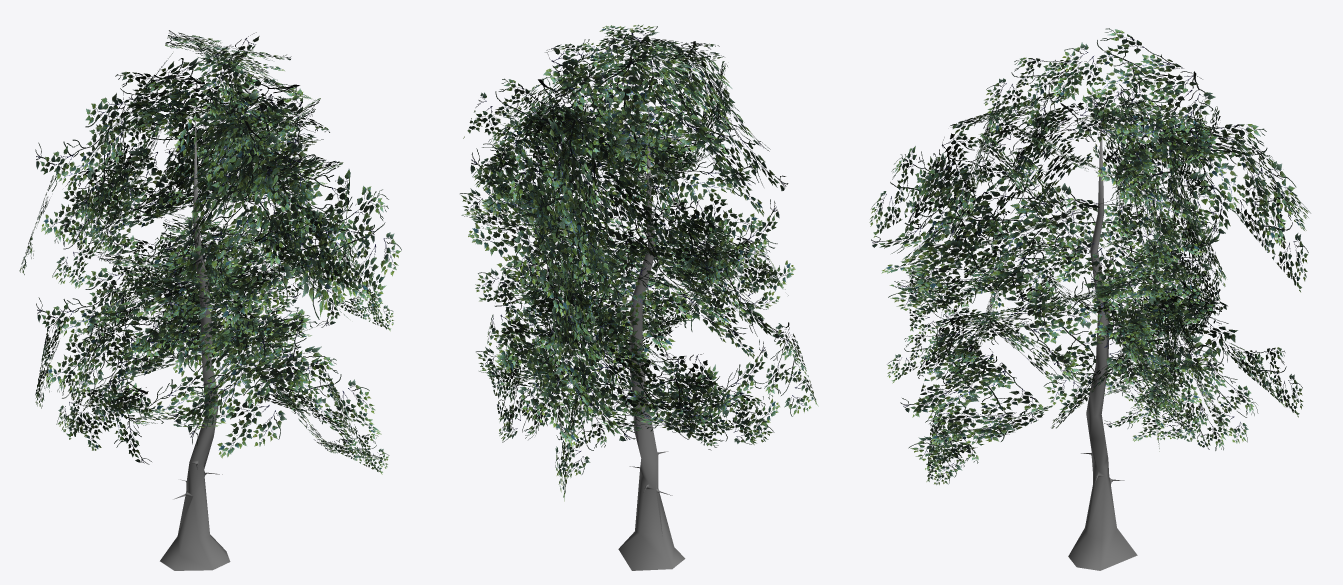
Rendered from parasolltree_lod2.fbx.
3 views of the same model, side by side, from view 1: azimuth 30°, elevation 25°; view 2: azimuth 150°, elevation 25°; view 3: azimuth 270°, elevation 25° (orthographic).
Parts seen in each view (by area): view 1: Default_Layer; view 2: Default_Layer; view 3: Default_Layer.
Part boxes in pixels (x1,y1,x2,y2): Default_Layer: (19,30,401,570); Default_Layer: (460,24,818,570); Default_Layer: (869,28,1310,570).
Size of the model in its own units: 942 by 1388 by 1140.
